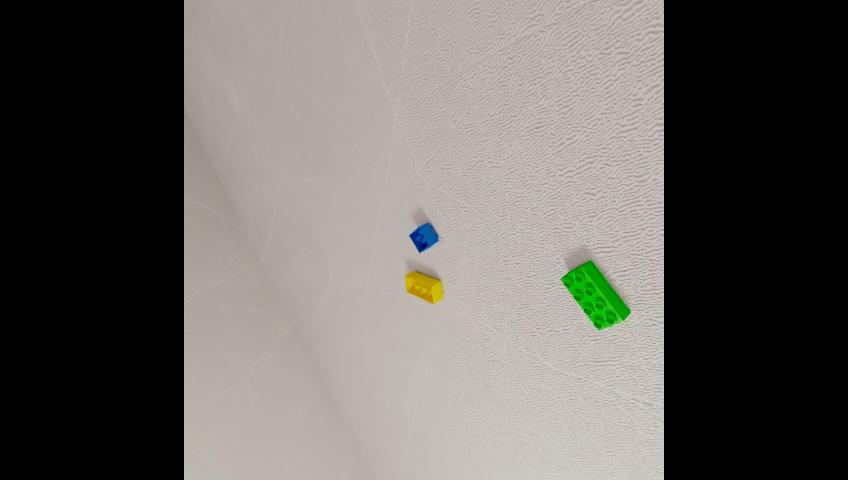2x2_blue: (408, 223, 438, 253)
4x2_green: (559, 260, 630, 330)
4x2_yellow: (405, 270, 444, 303)
